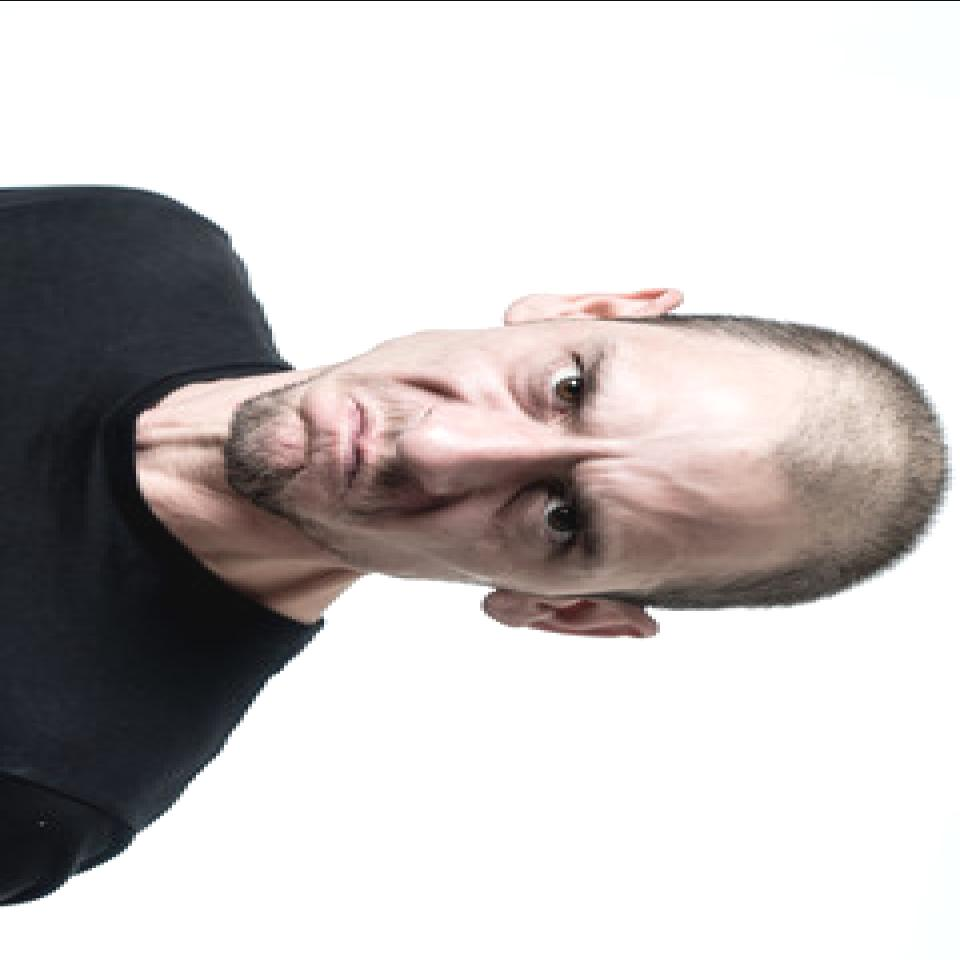Anger: (228, 317, 730, 589)
